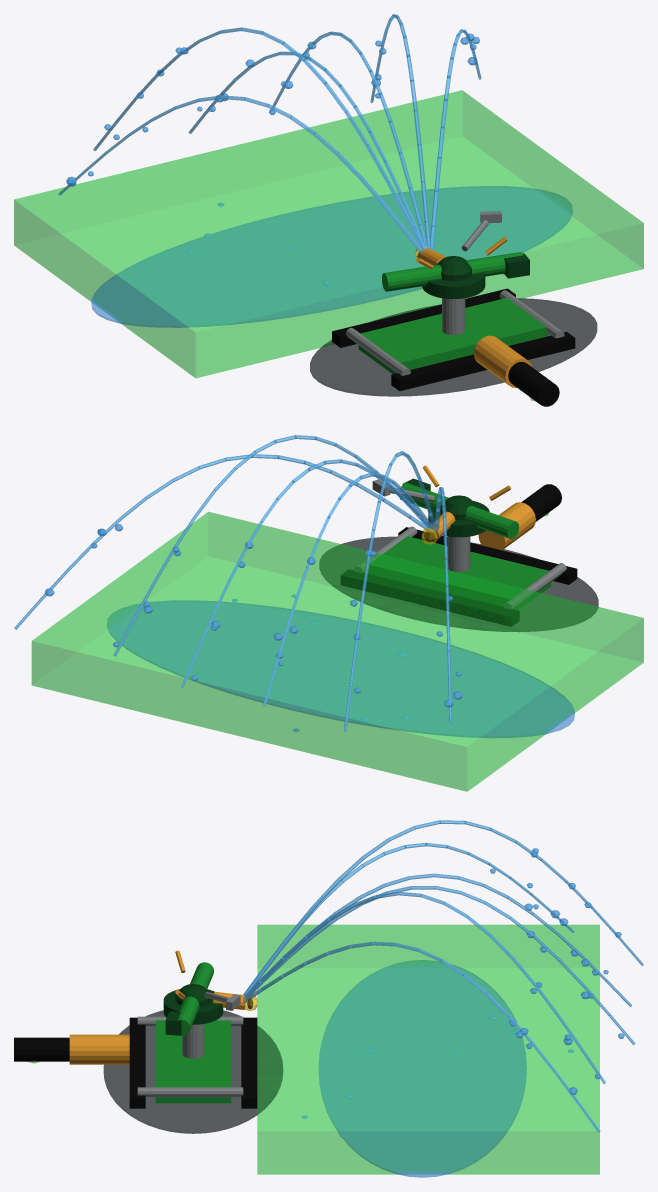
The model's file is rotating_lawn_sprinkler_with_water_arc.obj.
3 views of the same model, one above another, from view 1: azimuth 30°, elevation 25°; view 2: azimuth 150°, elevation 25°; view 3: azimuth 270°, elevation 25° (orthographic). The views are drawn at different scales.
Visible parts, largest first — view 1: Guide_Wet_Hazard_Arc_Area_delete_or_hide, Transparent_wet_splash_area_on_ground, Subtle_wet_ground_shadow, Green_rectangular_sled_base, Black_rubber_rear_foot, Rotating_sprinkler_head_bar, Black_rubber_front_foot, Rear_hose_connector_nozzle, Short_black_hose_stub, Round_rotation_joint_disc, Central_rotating_riser_pipe, Left_metal_sled_runner (+2 smaller); view 2: Guide_Wet_Hazard_Arc_Area_delete_or_hide, Transparent_wet_splash_area_on_ground, Subtle_wet_ground_shadow, Green_rectangular_sled_base, Black_rubber_front_foot, Rotating_sprinkler_head_bar, Black_rubber_rear_foot, Rear_hose_connector_nozzle, Short_black_hose_stub, Central_rotating_riser_pipe, Left_metal_sled_runner, Round_rotation_joint_disc (+1 smaller); view 3: Guide_Wet_Hazard_Arc_Area_delete_or_hide, Transparent_wet_splash_area_on_ground, Subtle_wet_ground_shadow, Green_rectangular_sled_base, Rear_hose_connector_nozzle, Black_rubber_front_foot, Black_rubber_rear_foot, Short_black_hose_stub, Right_metal_sled_runner, Rotating_sprinkler_head_bar, Round_rotation_joint_disc, Central_rotating_riser_pipe.
Part boxes in pixels (x1,y1,x2,y2): Guide_Wet_Hazard_Arc_Area_delete_or_hide: [14, 90, 643, 378]; Transparent_wet_splash_area_on_ground: [91, 186, 572, 327]; Subtle_wet_ground_shadow: [310, 298, 597, 396]; Green_rectangular_sled_base: [358, 298, 548, 373]; Black_rubber_rear_foot: [391, 332, 575, 391]; Rotating_sprinkler_head_bar: [382, 252, 523, 291]; Black_rubber_front_foot: [332, 288, 515, 347]; Rear_hose_connector_nozzle: [473, 335, 532, 388]; Short_black_hose_stub: [508, 362, 559, 406]; Round_rotation_joint_disc: [422, 264, 485, 299]; Central_rotating_riser_pipe: [442, 298, 465, 335]; Left_metal_sled_runner: [346, 327, 410, 375]; Guide_Wet_Hazard_Arc_Area_delete_or_hide: [31, 511, 643, 791]; Transparent_wet_splash_area_on_ground: [107, 600, 574, 737]; Subtle_wet_ground_shadow: [319, 536, 598, 631]; Green_rectangular_sled_base: [368, 536, 551, 609]; Black_rubber_front_foot: [340, 569, 519, 626]; Rotating_sprinkler_head_bar: [400, 483, 519, 538]; Black_rubber_rear_foot: [398, 527, 577, 584]; Rear_hose_connector_nozzle: [478, 502, 535, 550]; Short_black_hose_stub: [521, 484, 561, 521]; Central_rotating_riser_pipe: [447, 536, 470, 572]; Left_metal_sled_runner: [504, 563, 566, 609]; Round_rotation_joint_disc: [428, 501, 489, 537]; Guide_Wet_Hazard_Arc_Area_delete_or_hide: [257, 924, 599, 1174]; Transparent_wet_splash_area_on_ground: [319, 960, 526, 1177]; Subtle_wet_ground_shadow: [103, 1010, 283, 1133]; Green_rectangular_sled_base: [155, 1020, 231, 1103]; Rear_hose_connector_nozzle: [69, 1034, 129, 1064]; Black_rubber_front_foot: [241, 1017, 257, 1108]; Black_rubber_rear_foot: [129, 1017, 145, 1108]; Short_black_hose_stub: [14, 1037, 69, 1061]; Right_metal_sled_runner: [137, 1087, 243, 1097]; Rotating_sprinkler_head_bar: [178, 962, 213, 1035]; Round_rotation_joint_disc: [163, 989, 223, 1024]; Central_rotating_riser_pipe: [182, 1024, 204, 1058].
Size of what is drawn, in the model's own units: 2.61 by 1.23 by 3.16.
